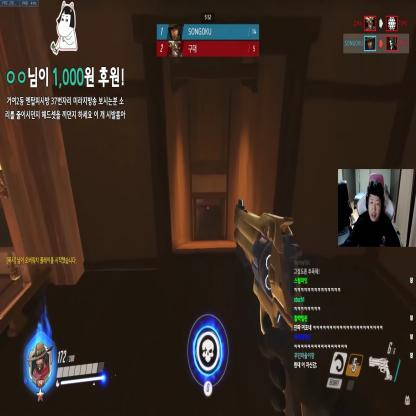donation: (5, 0, 126, 120)
streamer: (344, 180, 401, 247)
